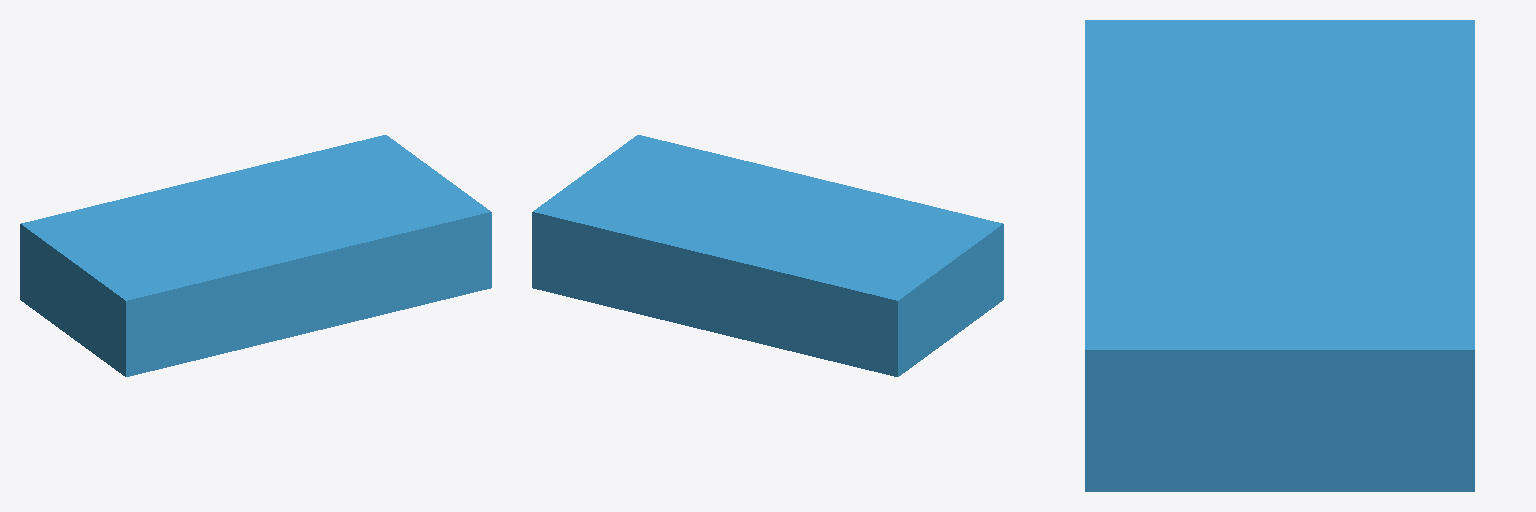
The robot description file, URDF, robot "single_prismatic":
<robot name="single_prismatic"><link name="base"/><link name="moving"><inertial><origin xyz="0 0 0" rpy="0 0 0"/><mass value="0.2"/><inertia ixx="0.00004833333333333333" iyy="0.00017333333333333333" izz="0.00020833333333333335" ixy="0" ixz="0" iyz="0"/></inertial><visual><geometry><box size="0.1 0.05 0.02"/></geometry></visual><collision><geometry><box size="0.1 0.05 0.02"/></geometry></collision></link><joint name="motion" type="prismatic"><parent link="base"/><child link="moving"/><origin xyz="0 0 0.1" rpy="0 0 0"/><axis xyz="1 0 0"/><limit lower="0" upper="0.05" effort="10" velocity="0.02"/></joint></robot>

--- Facts derived from the render (not from the file) ---
The picture shows the robot from 3 angles, left to right: view 1: azimuth 30°, elevation 25°; view 2: azimuth 150°, elevation 25°; view 3: azimuth 270°, elevation 25°; orthographic projection.
Model single_prismatic with 2 links and 1 joints (1 prismatic), rooted at base, posed every joint at zero.
Visible links, largest first — view 1: moving; view 2: moving; view 3: moving.
Boxes of the visible links, x1,y1,x2,y2 form: moving: (20, 135, 491, 376); moving: (532, 135, 1003, 376); moving: (1085, 20, 1474, 491).
Bounding box of the posed robot: 0.1 × 0.05 × 0.02 m (x, y, z).
Geometry: primitives only (box / cylinder / sphere), no mesh files.
